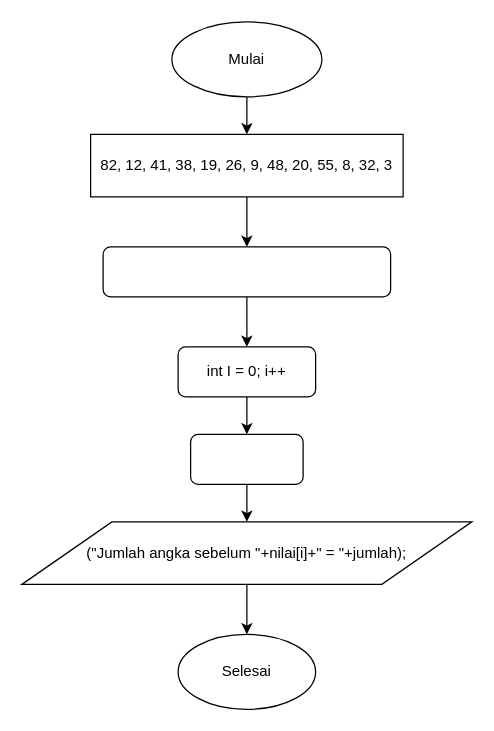
Some shapes in this 494 by 731 pixel diagram are drawn without their labels. The centre of each missing label's shape, as x and y in pixels:
nilai[i]+" ": point (246, 458)
“Menampilkan semua nilai array : “: point (246, 271)
